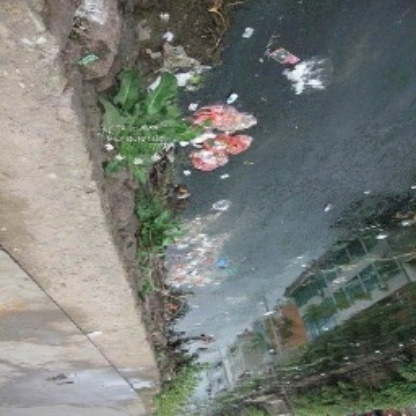plastic-bag: (190, 135, 253, 170)
